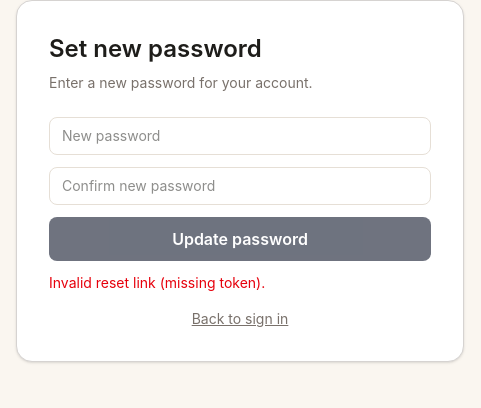
Test: reset-password confirmation (focused) › shows mismatch error when confirmation does not match
The image size is (481, 408).
In the password field with placeholder "New password": (240, 136) [49,117,431,155], type "abc"
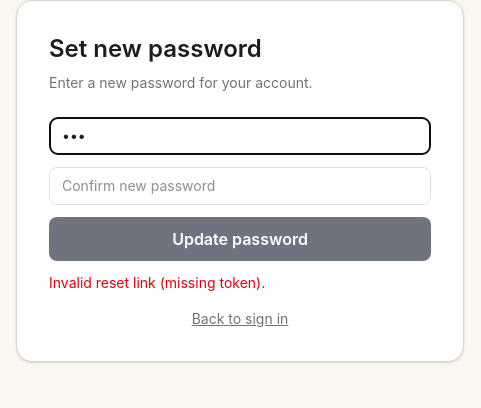
In the password field with placeholder "Confirm new password": (240, 186) [49,167,431,205], type "xyz"
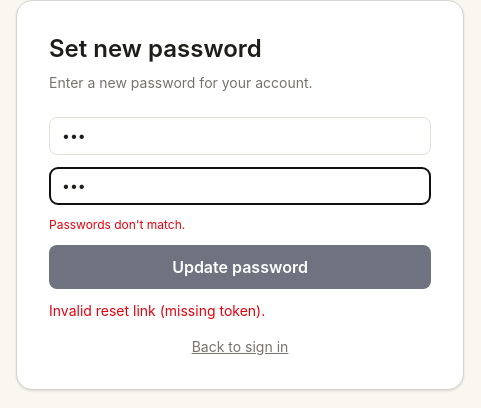
Now the text "Passwords don't match." is shown, box [49,217,185,232]
